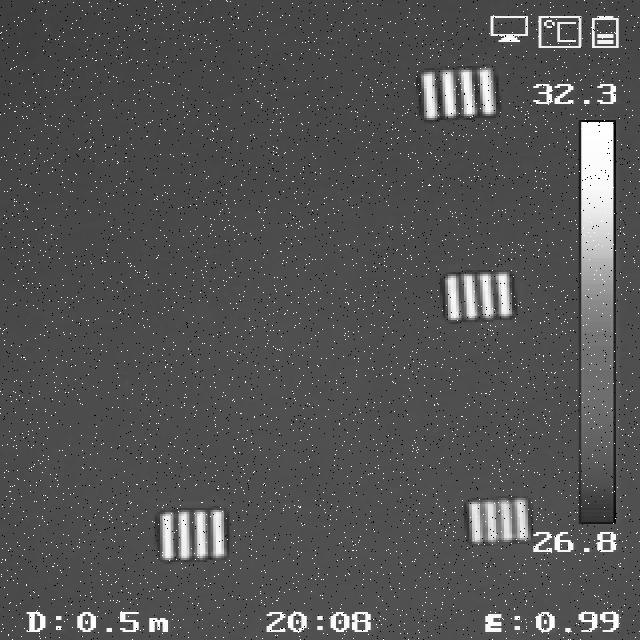Distinguishable 4-bar target: (413, 67, 500, 118), (439, 269, 513, 320), (158, 509, 226, 561), (462, 497, 534, 542)
